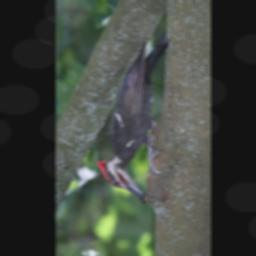Woodpecker: (96, 31, 170, 202)
